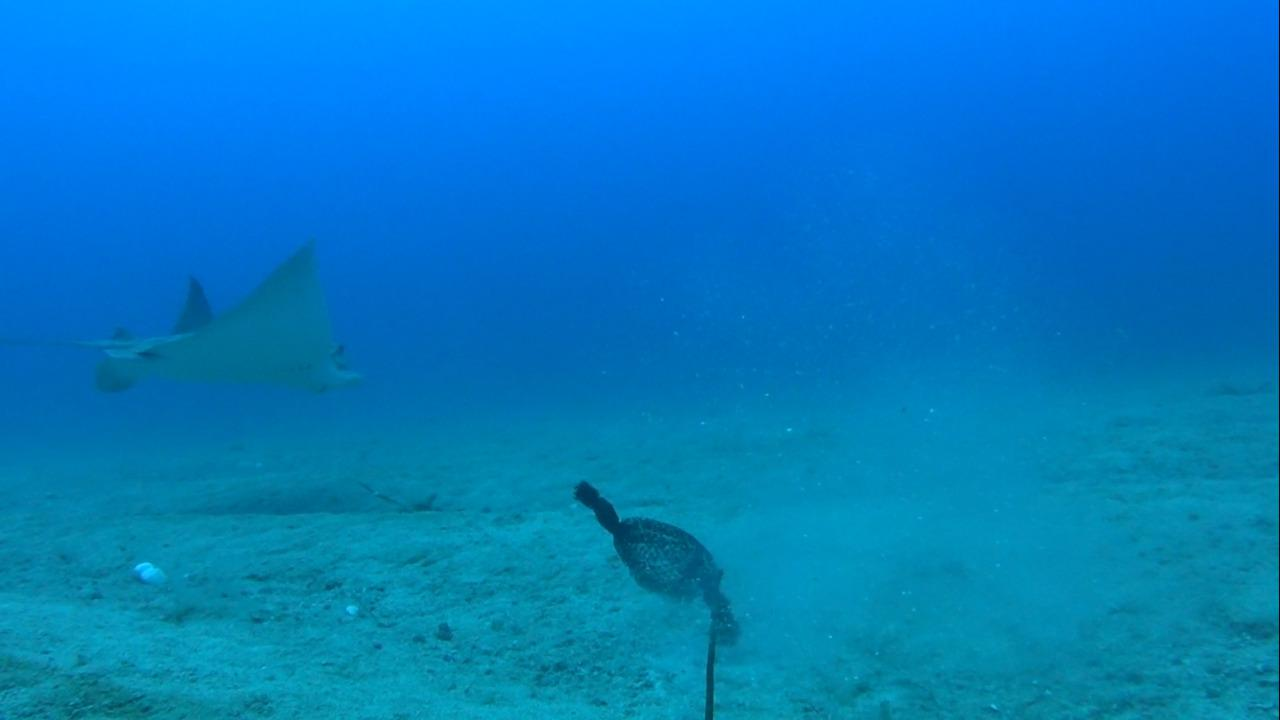myliobatis: (13, 238, 375, 404)
